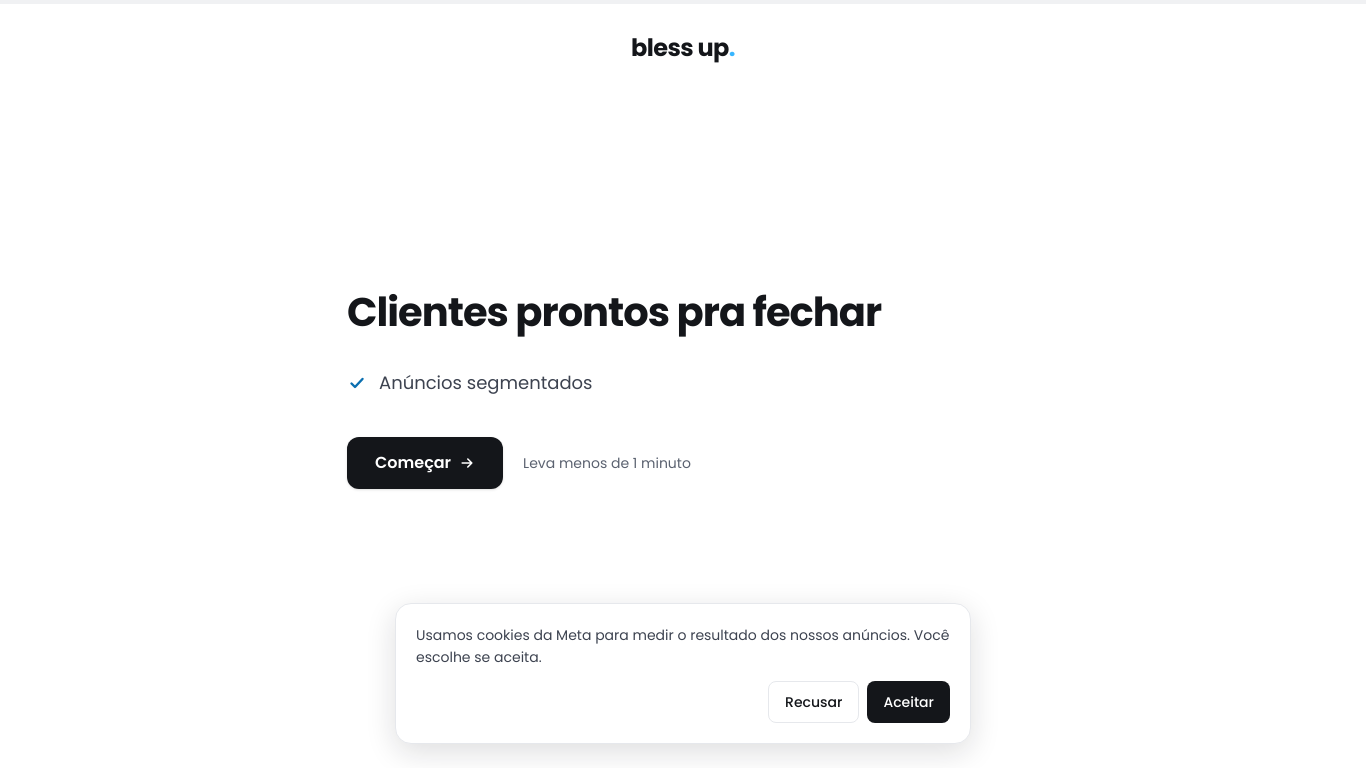
Test case: formulário do site › campos vazios não chegam ao servidor
The width and height of the screenshot is (1366, 768).
Click the button "Começar" at (425, 463), box [347, 437, 503, 489]
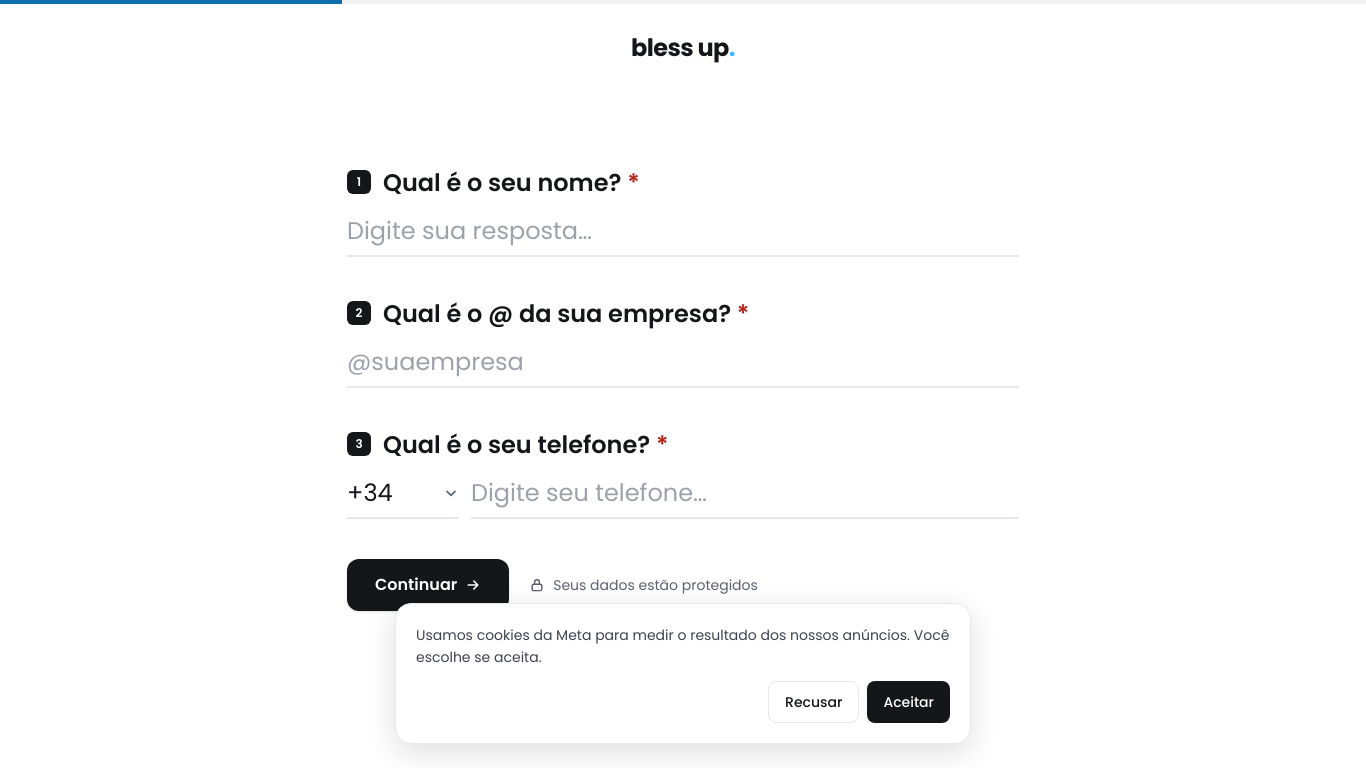
Click the button "Continuar" at (428, 584), box [347, 558, 509, 610]
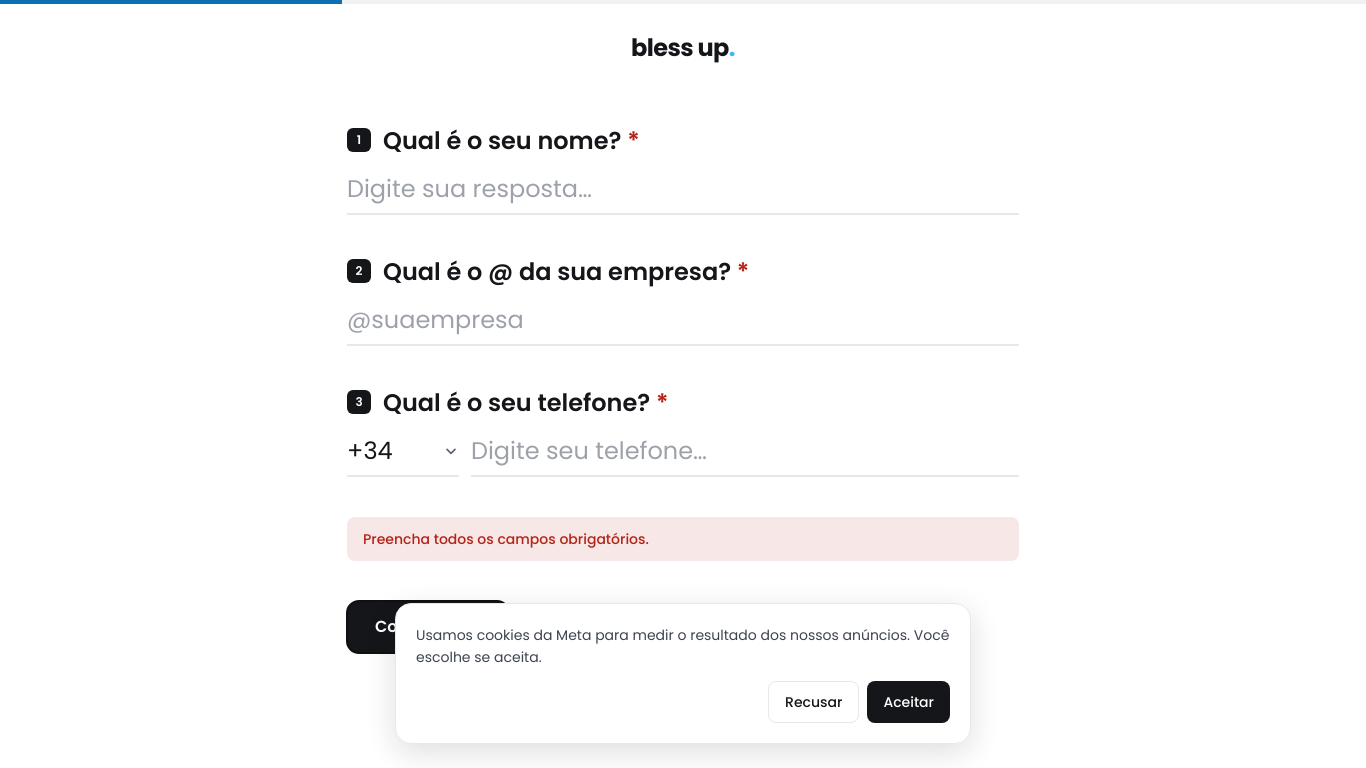
Now the message shows "Preencha todos os campos obrigatórios", box [363, 528, 649, 548]
